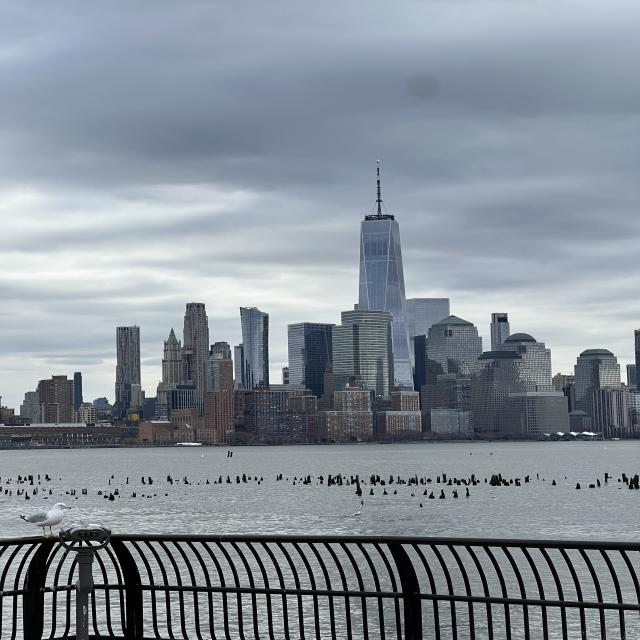WTC: (357, 160, 408, 310)
